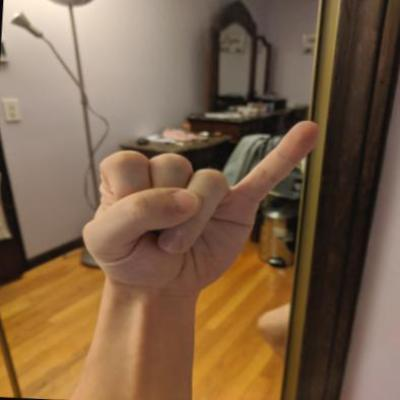hand: (73, 102, 328, 310)
